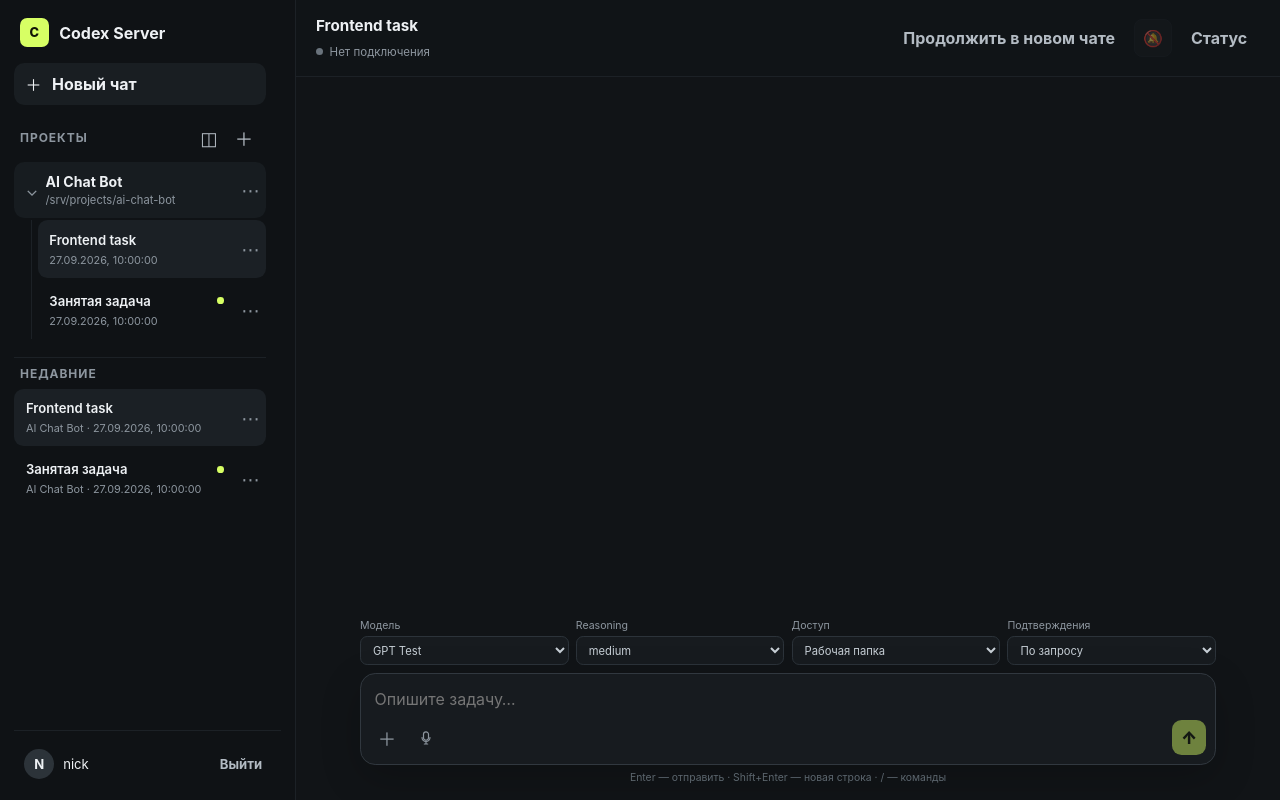
Test: App › explains TURN_CAPACITY_EXHAUSTED and preserves the unsent draft
Click the button with aria-label "Открыть недавний чат Frontend task": click(125, 418) left=14, top=389, right=235, bottom=446
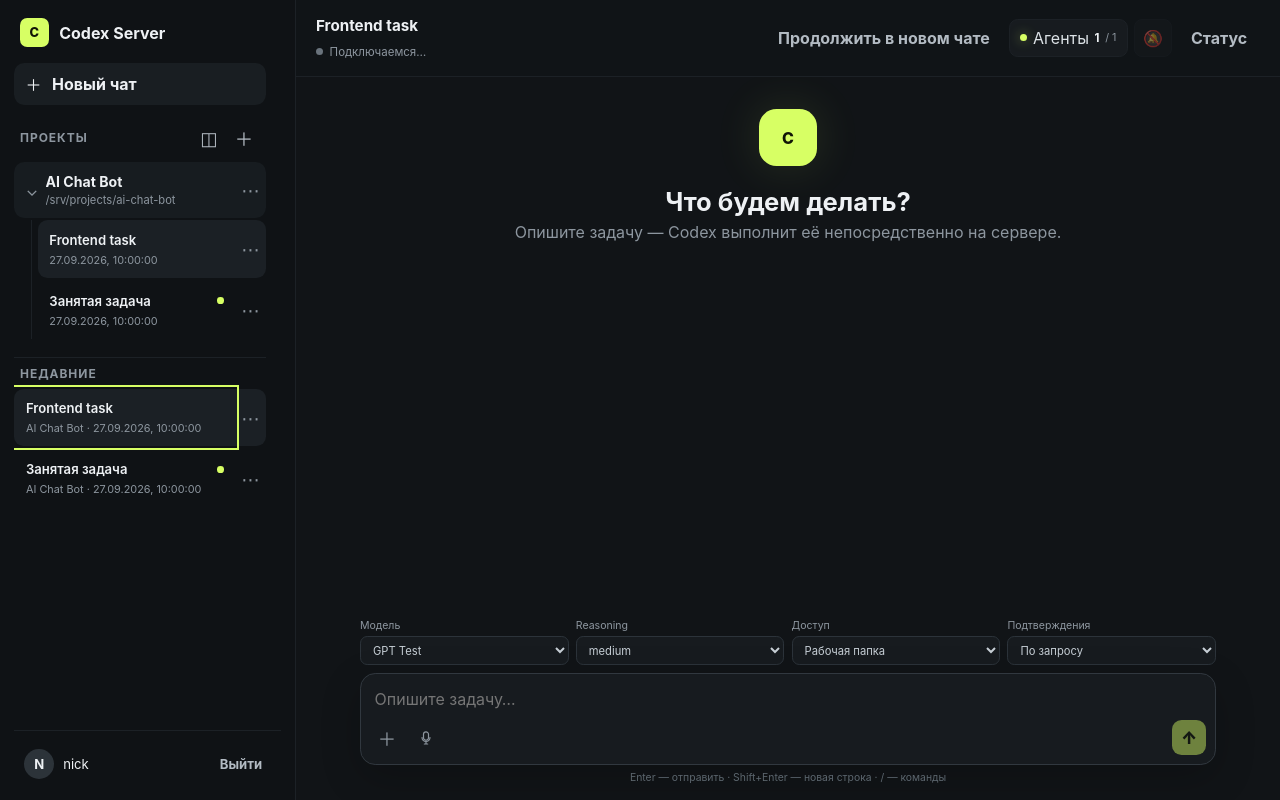
In the text box named "Сообщение Codex": (788, 697) left=361, top=674, right=1215, bottom=720, type "Запусти после освобождения слота"
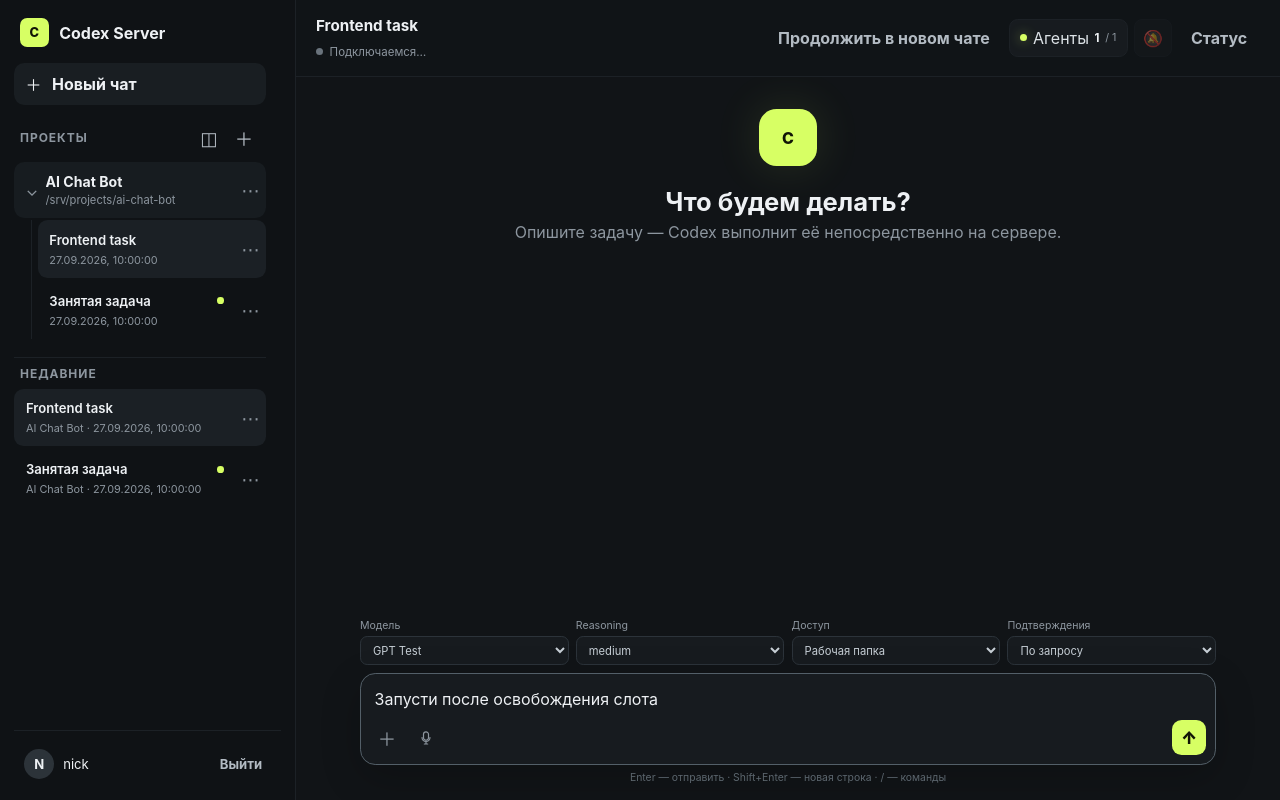
Click the button named "Отправить сообщение": click(1189, 738) left=1172, top=720, right=1206, bottom=755
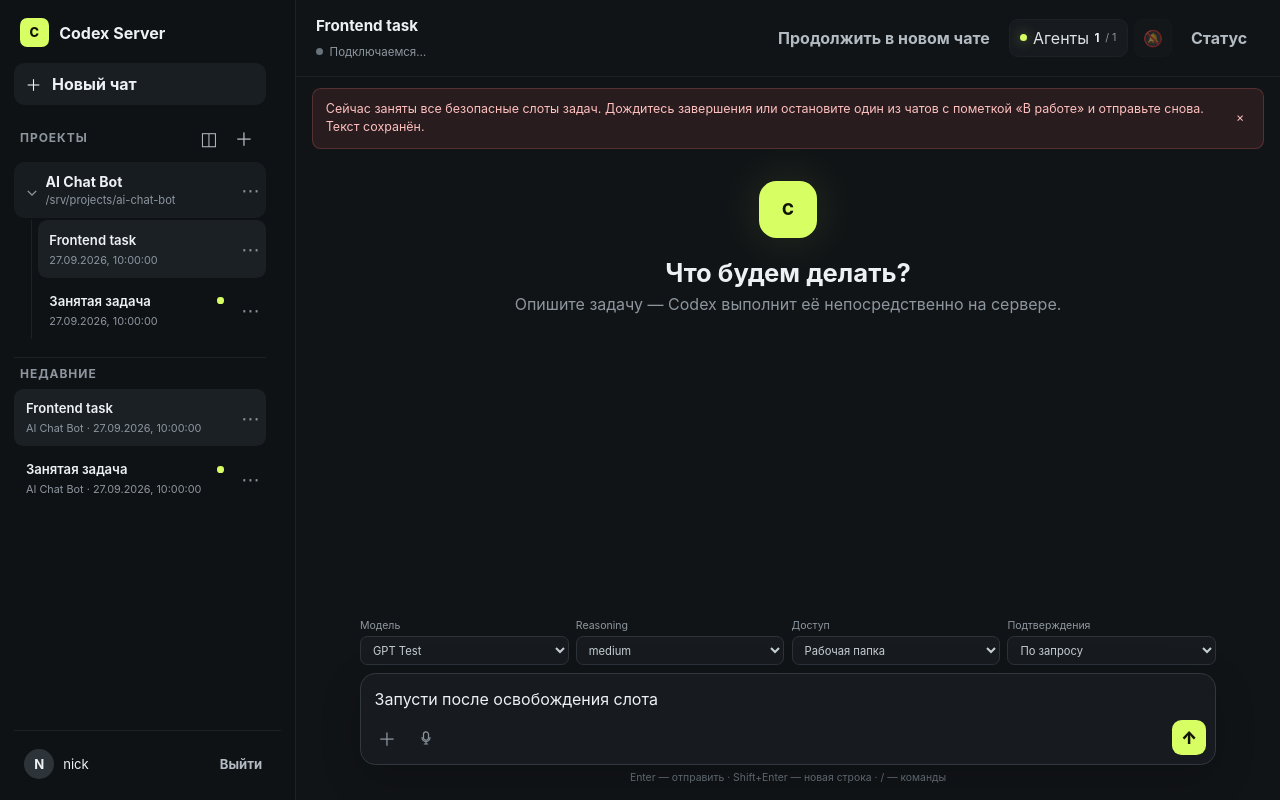
Expected: the number of elements with class "thread-running-dot" is 2, left=217, top=297, right=224, bottom=304; left=217, top=466, right=224, bottom=472
Result: the message shows "Сейчас заняты все безопасные слоты задач" at left=326, top=101, right=1204, bottom=134
